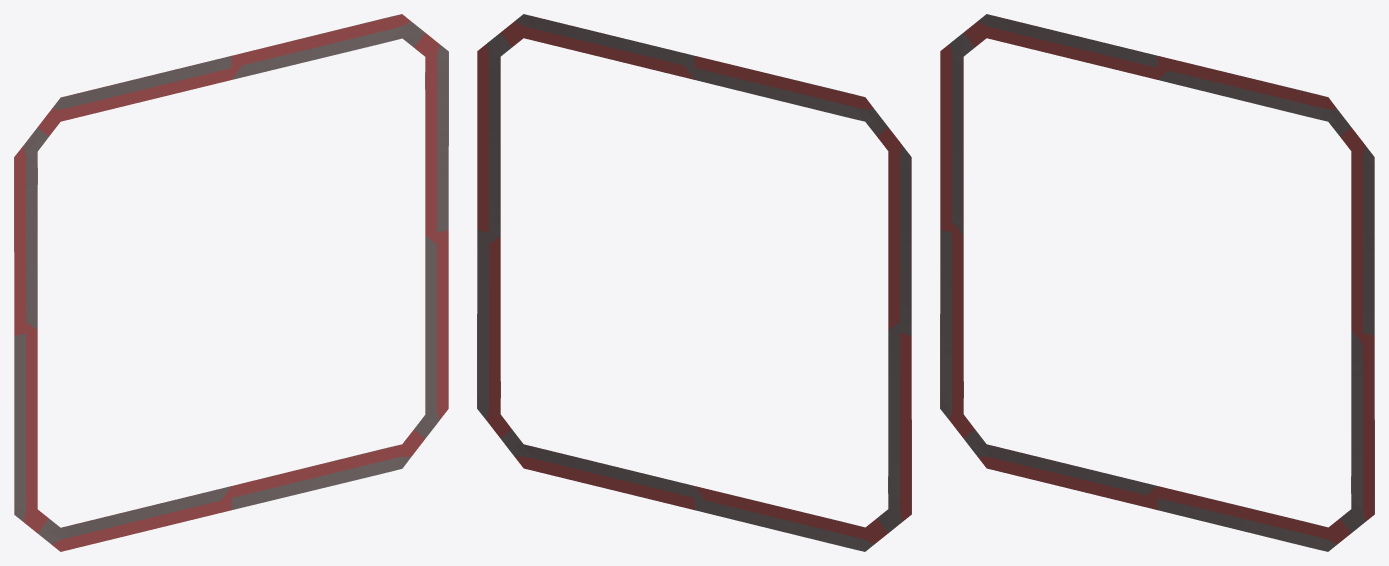
File: warping-rhs-150-150-8-16-2-420.glb
The picture shows the model from 3 angles, left to right: view 1: azimuth 30°, elevation 25°; view 2: azimuth 150°, elevation 25°; view 3: azimuth 330°, elevation 25°; orthographic projection.
Visible parts, largest first — view 1: undeformed cross-section, cross-section with warping; view 2: undeformed cross-section, cross-section with warping; view 3: undeformed cross-section, cross-section with warping.
Part boxes in pixels (x1=…): undeformed cross-section: x1=14, y1=14, x2=448, y2=551; cross-section with warping: x1=14, y1=14, x2=448, y2=544; undeformed cross-section: x1=477, y1=14, x2=911, y2=550; cross-section with warping: x1=477, y1=14, x2=911, y2=551; undeformed cross-section: x1=940, y1=14, x2=1374, y2=549; cross-section with warping: x1=940, y1=14, x2=1374, y2=551.
Bounding box in the file's own units: 0.15 × 0.15 × 0.000416.
